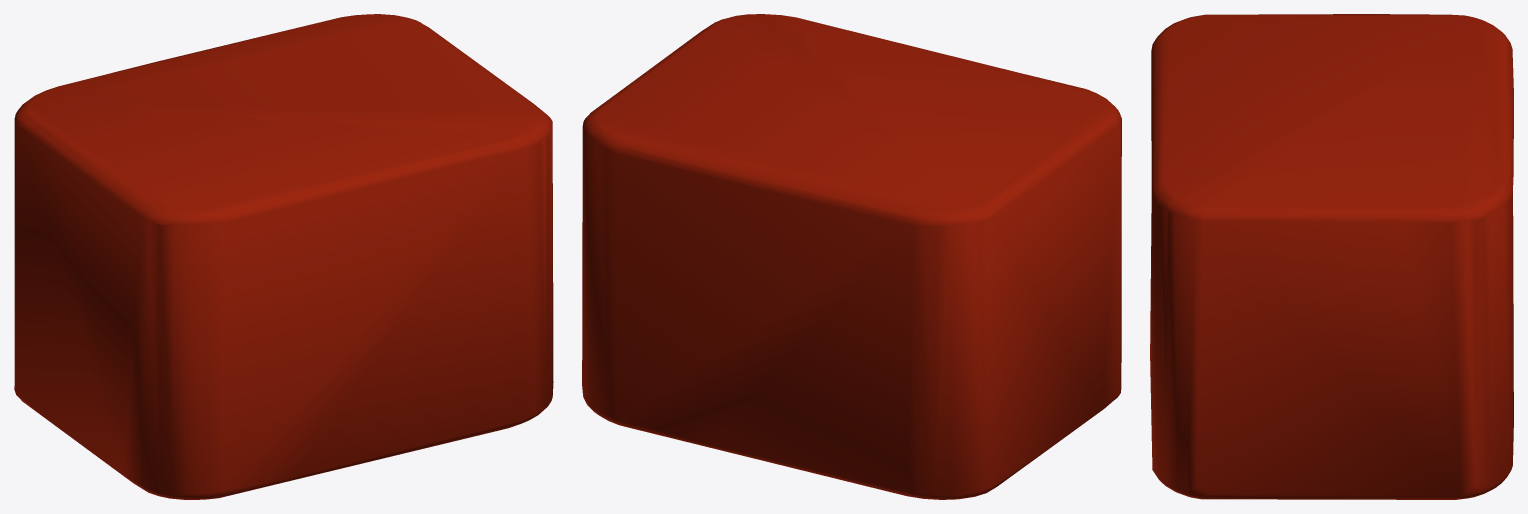
The model's file is Puf2.fbx.
3 renders of one model, left to right at view 1: azimuth 30°, elevation 25°; view 2: azimuth 150°, elevation 25°; view 3: azimuth 270°, elevation 25°, orthographic.
Parts seen in each view (by area): view 1: 25Пуф Блок.008; view 2: 25Пуф Блок.008; view 3: 25Пуф Блок.008.
Boxes of the visible parts, x1=… form: 25Пуф Блок.008: x1=14, y1=14, x2=553, y2=499; 25Пуф Блок.008: x1=582, y1=14, x2=1121, y2=499; 25Пуф Блок.008: x1=1150, y1=14, x2=1513, y2=499.
Bounding box in the file's own units: 59.2 × 39.74 × 44.62.
